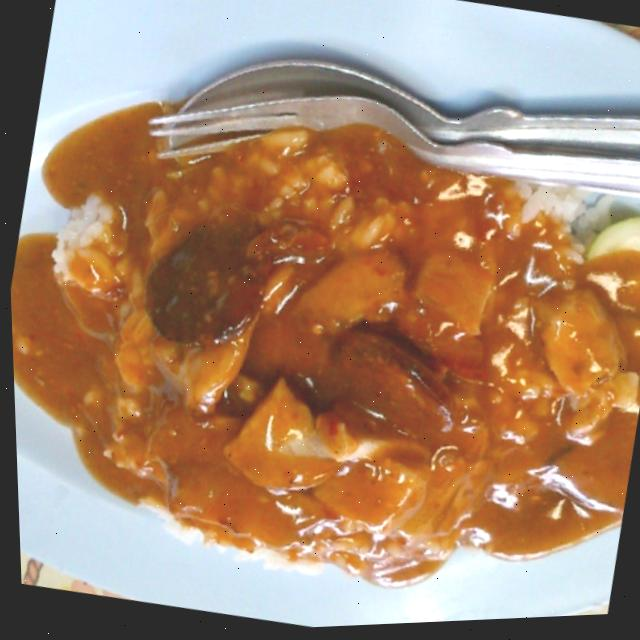猪肉菜式: (2, 32, 640, 640)
